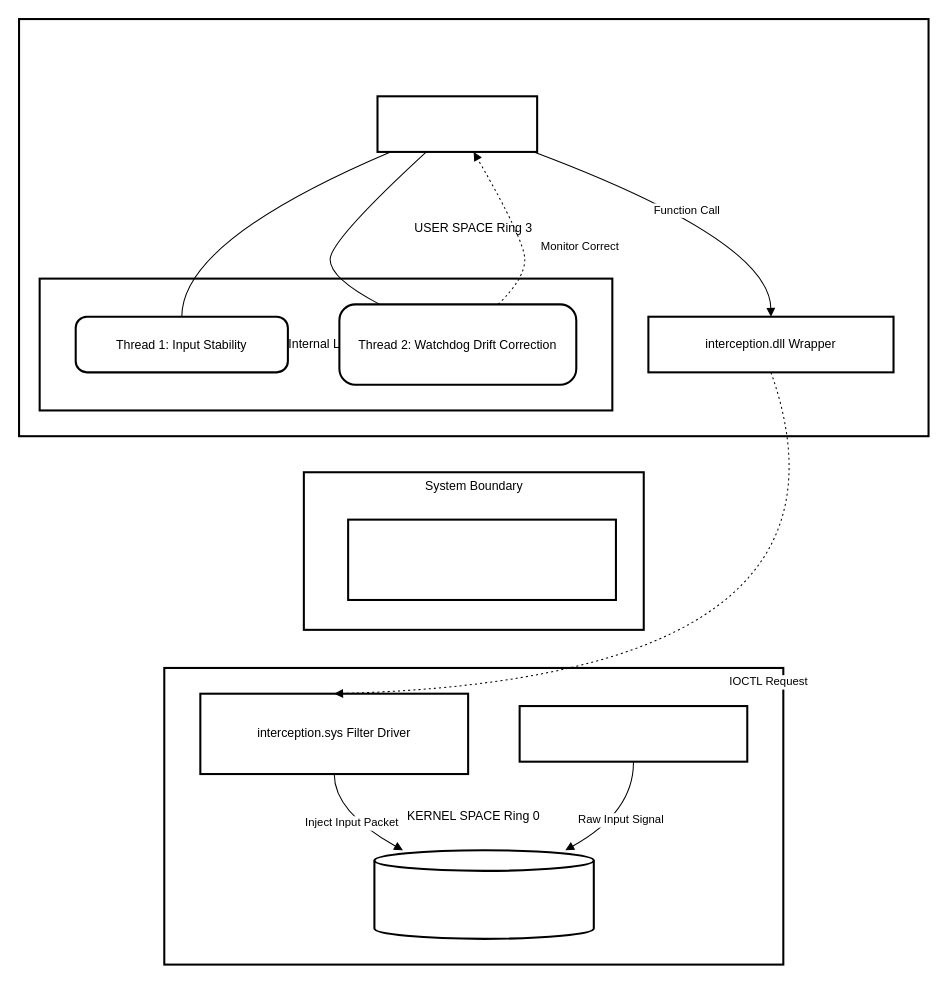
The diagram is 947 pixels wide and 983 high, and some of its shapes have lost their labels. The centre of each missing label's shape, as x and y in pixels:
===== System Call / IOCTL Interface =====: (x=481, y=559)
Main App PoC: (x=457, y=123)
Physical Hardware HID: (x=633, y=733)
Windows Input Data Stream: (x=483, y=894)
